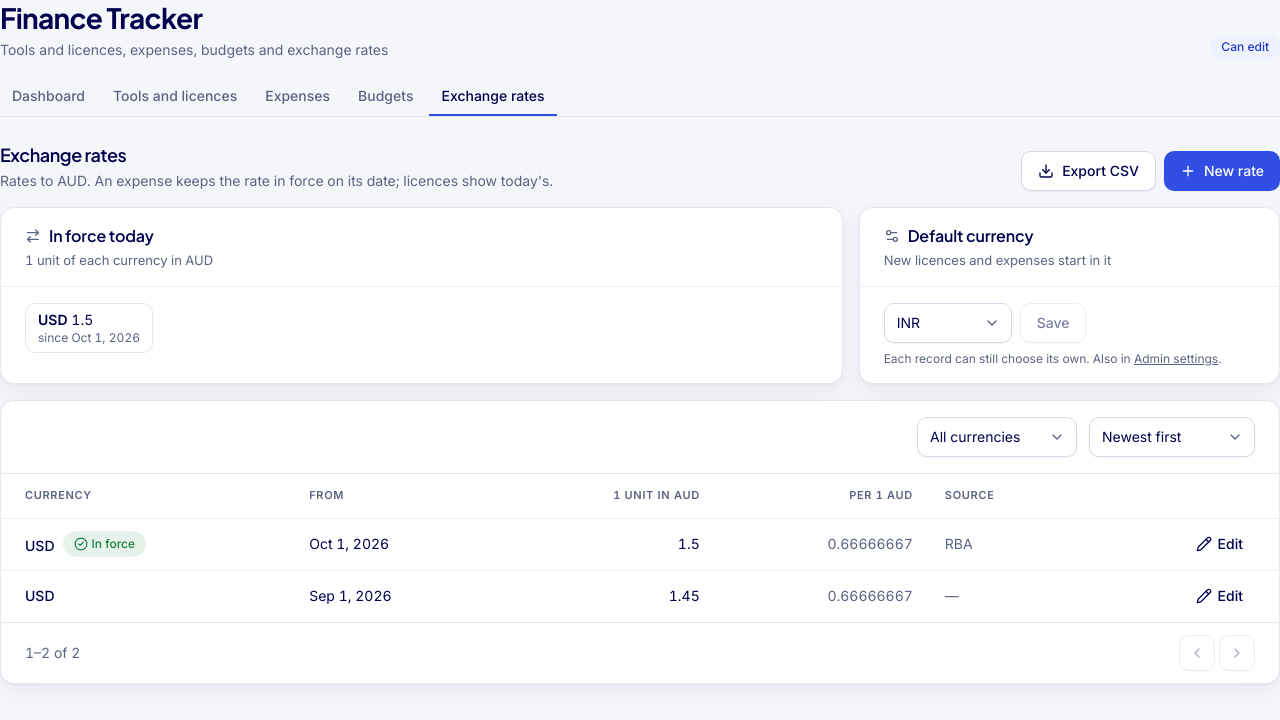
ExchangeRatesPage › refuses a rate for AUD, the base currency
Click the button "New rate" at (1222, 171), box [1164,151,1279,191]
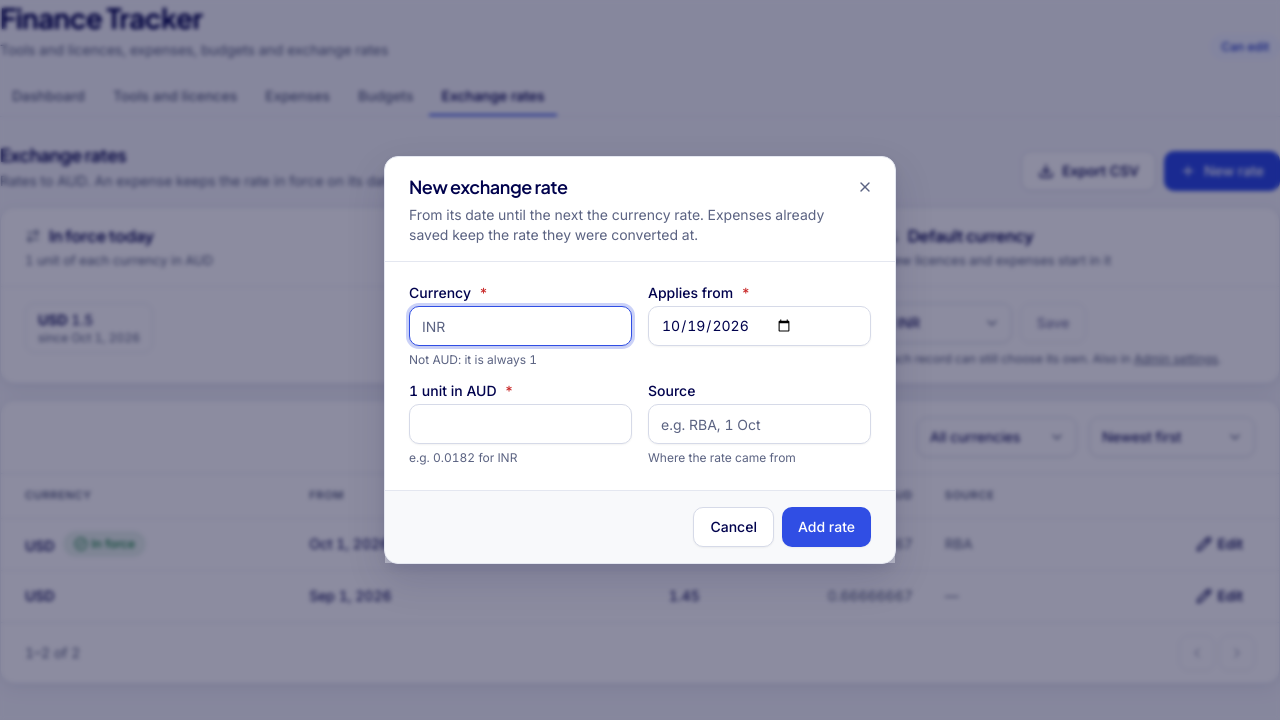
Type "aud" into the field labelled "Currency *" at (520, 326), box [409,306,632,346]
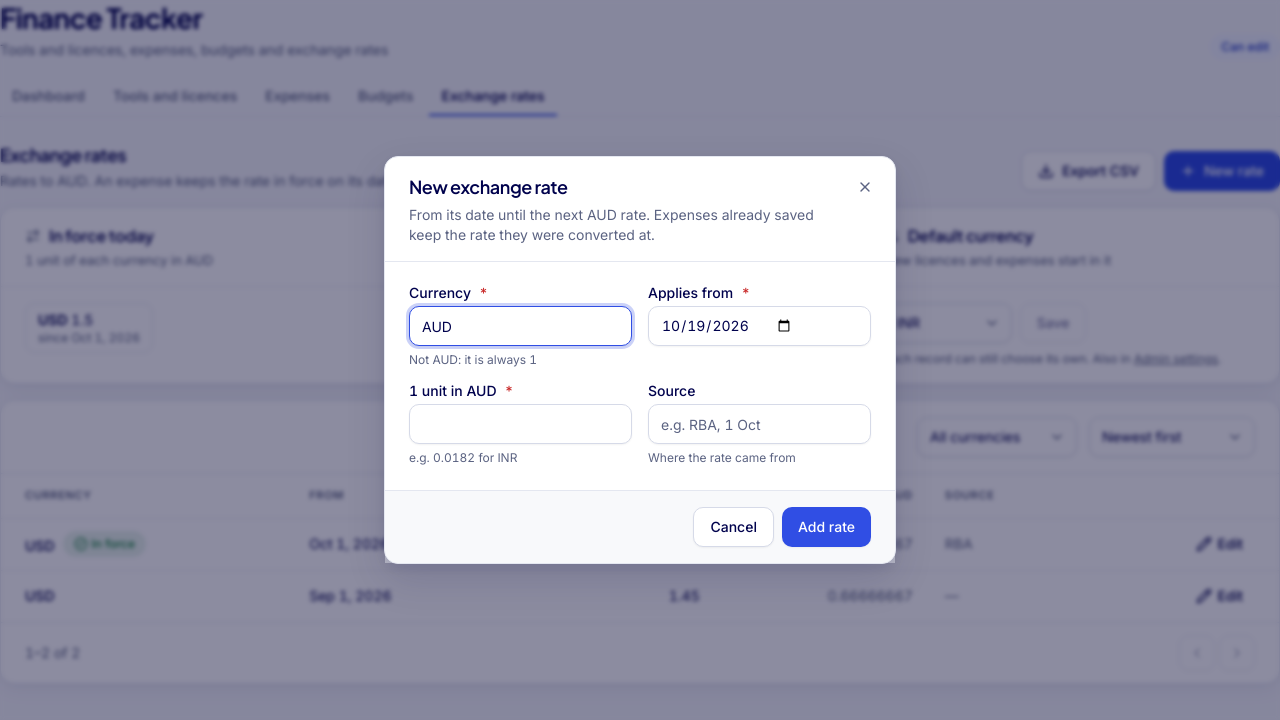
Type "1" into the field labelled "1 unit in AUD *" at (520, 424), box [409,404,632,444]
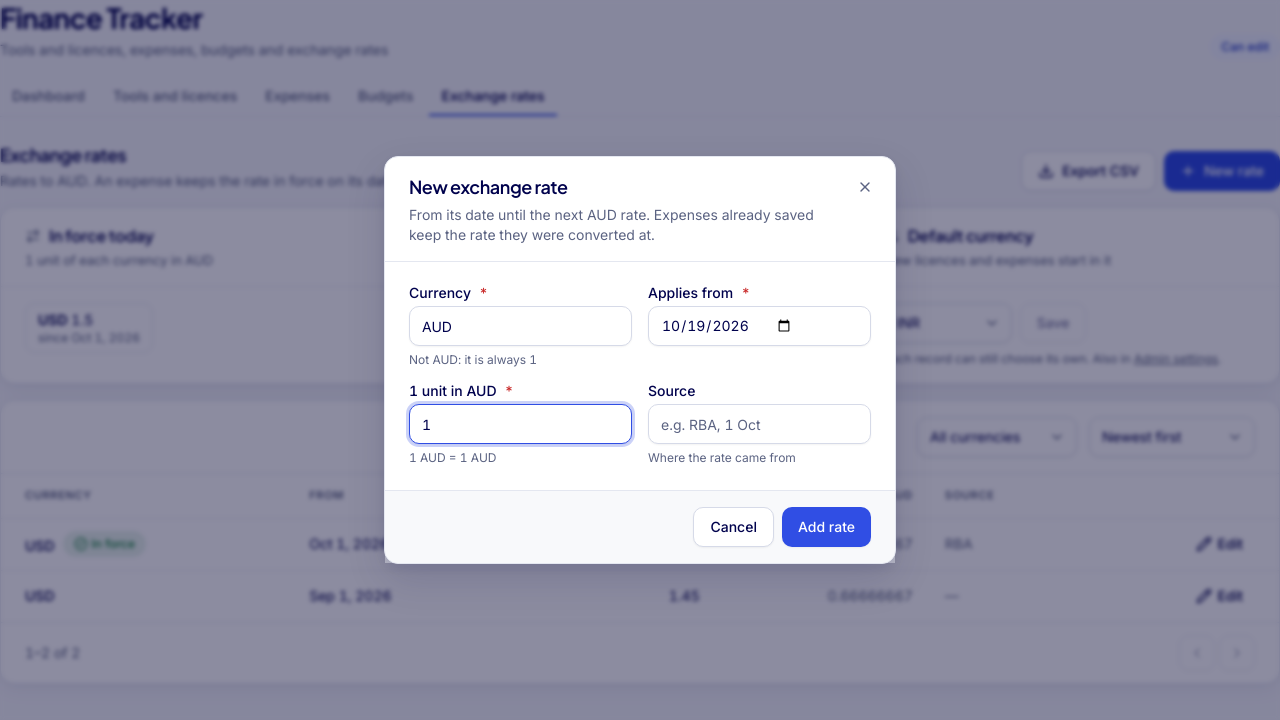
Click the button "Add rate" at (826, 527), box [782,507,871,547]
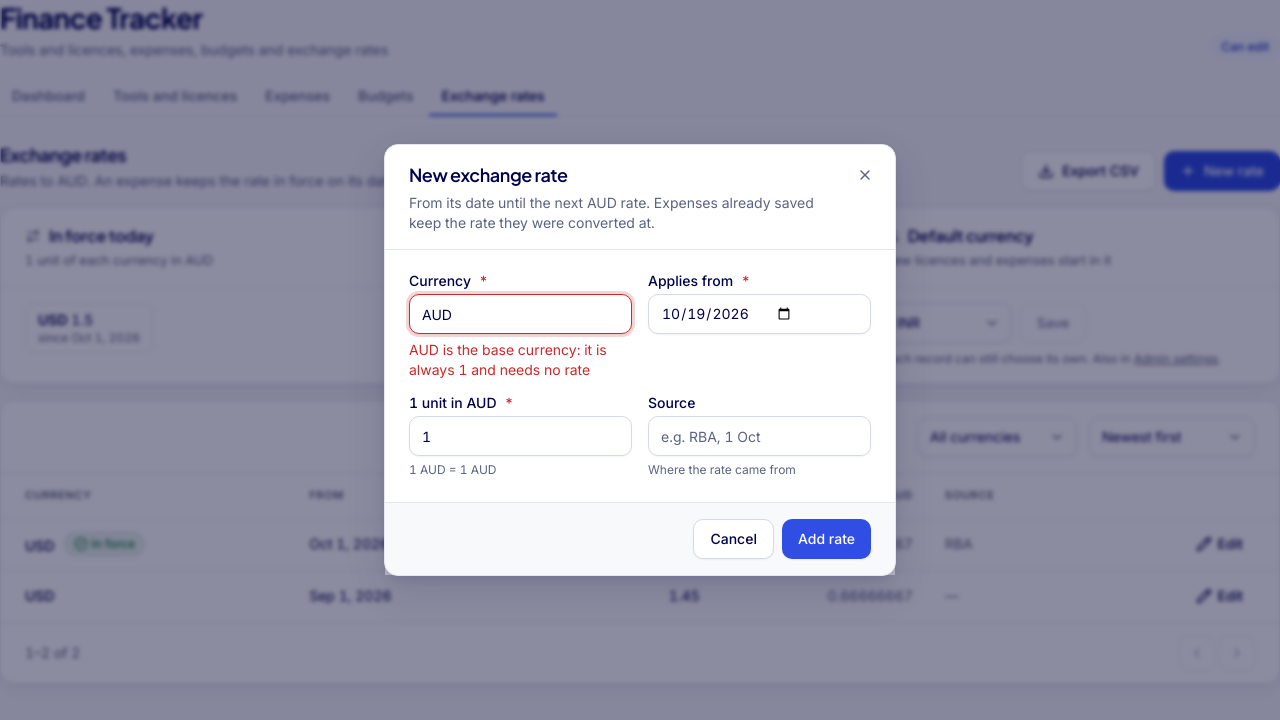
Check: the text "AUD is the base currency: it is always 1 and needs no rate" is shown, box [409,340,632,380]
